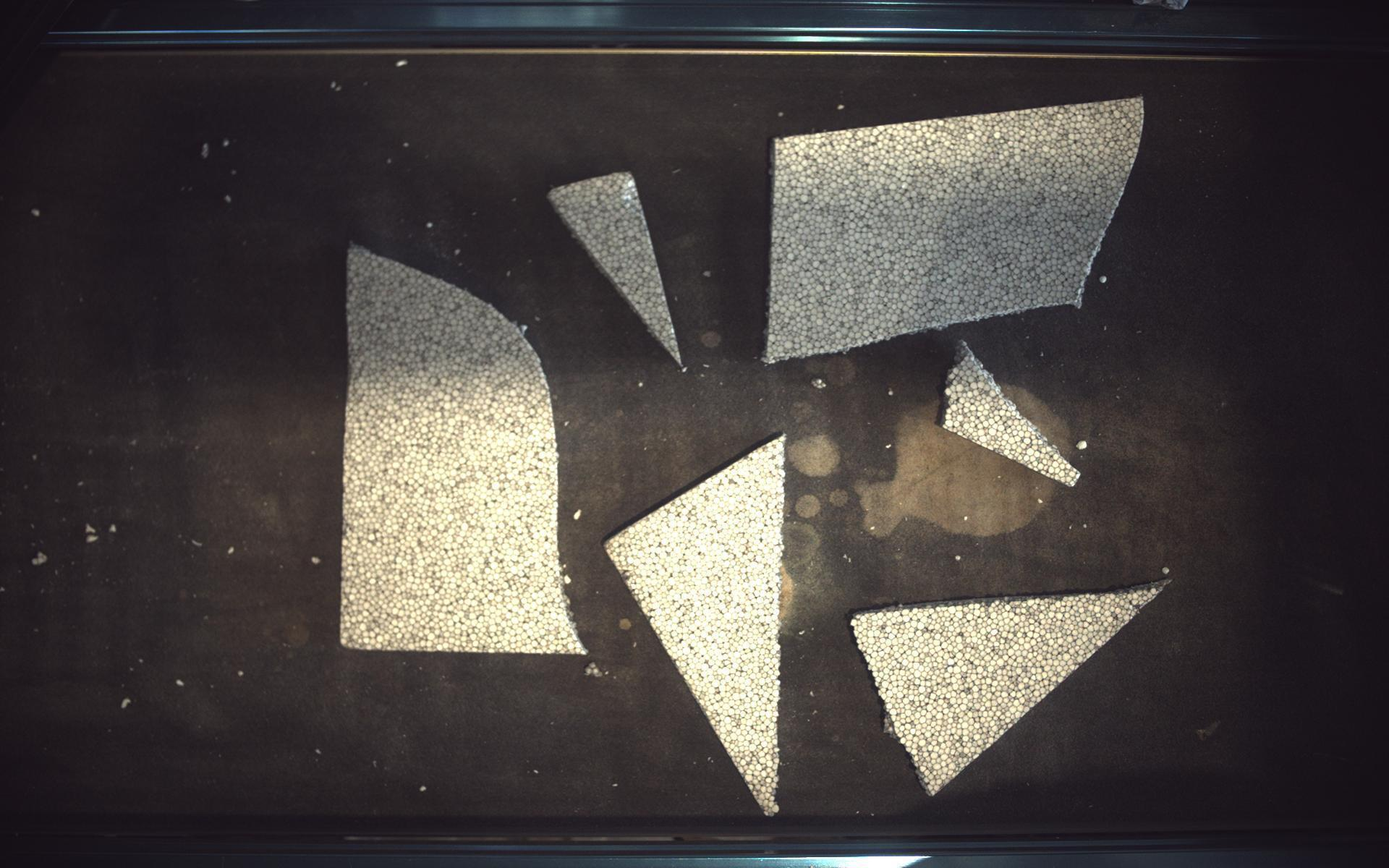foam: (765, 96, 1146, 363), (341, 247, 585, 655), (606, 435, 786, 817), (853, 582, 1168, 796), (548, 171, 683, 366), (943, 341, 1082, 487)
